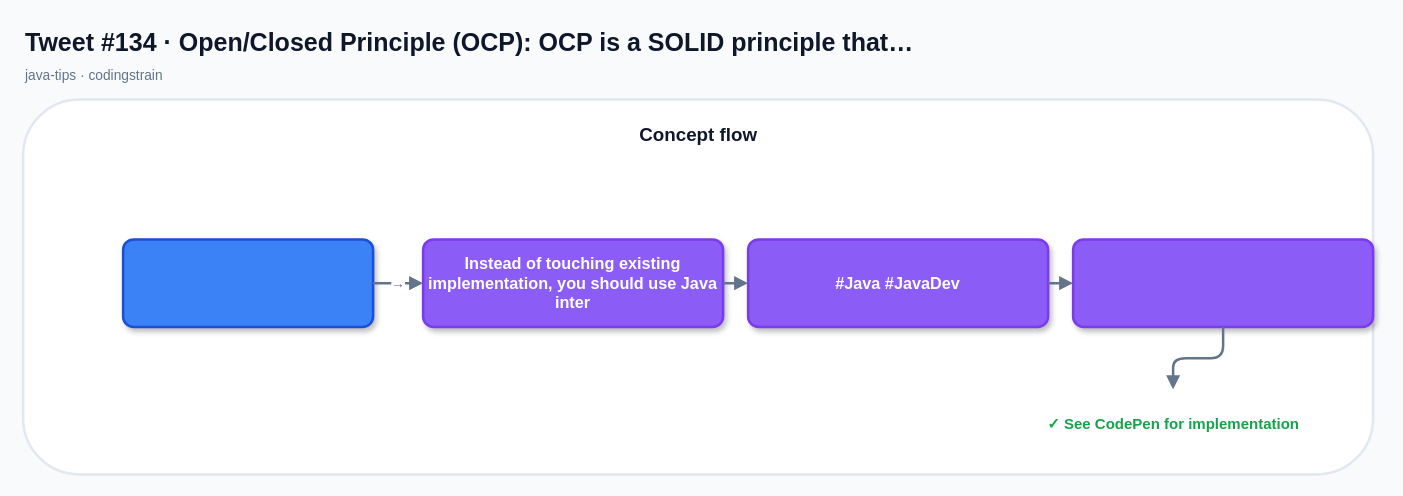
This 1403x496 diagram has some shape labels left out. Each missing label, with the centre of its shape:
"Problem / context" belongs at (x=248, y=284).
"Runnable sample: `java-tips`" belongs at (x=1223, y=284).
